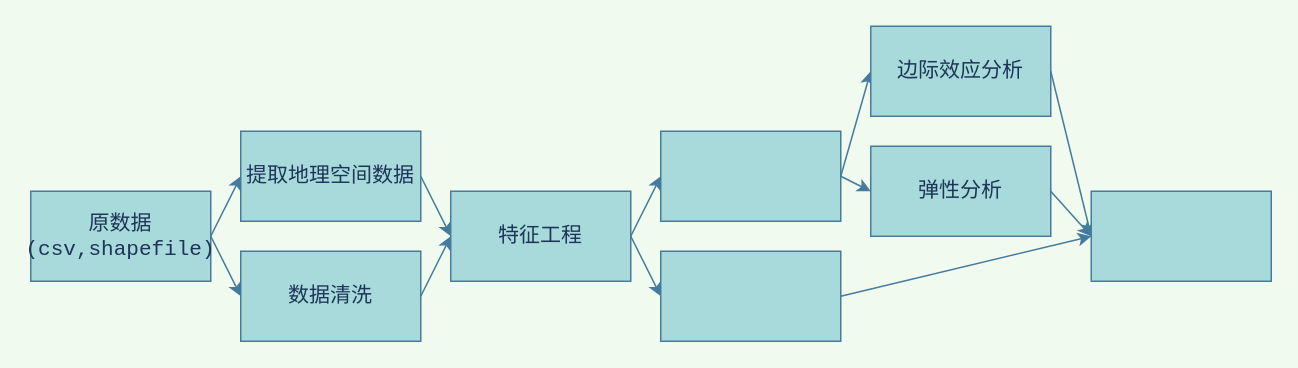
Image size: 1298x368. Some labels were removed from this diagram. The centre of each missing label's shape, as x and y in pixels:
OD对数据 (csv): point 750,295
土地栅格聚合数据 (csv): point 750,175
需求预测: point 1180,235
